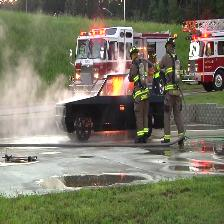fire: (112, 76, 125, 96)
smoke: (0, 48, 60, 141), (61, 76, 87, 102), (108, 51, 125, 76), (0, 21, 9, 41)
